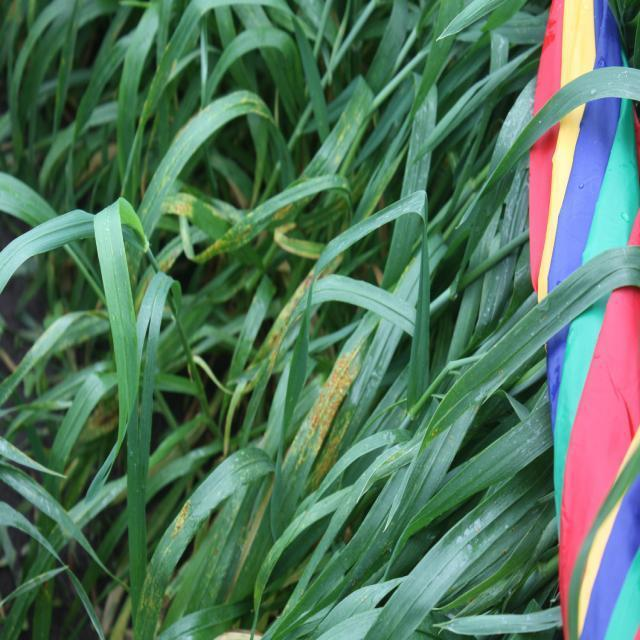Stem Rust: (267, 274, 367, 464)
